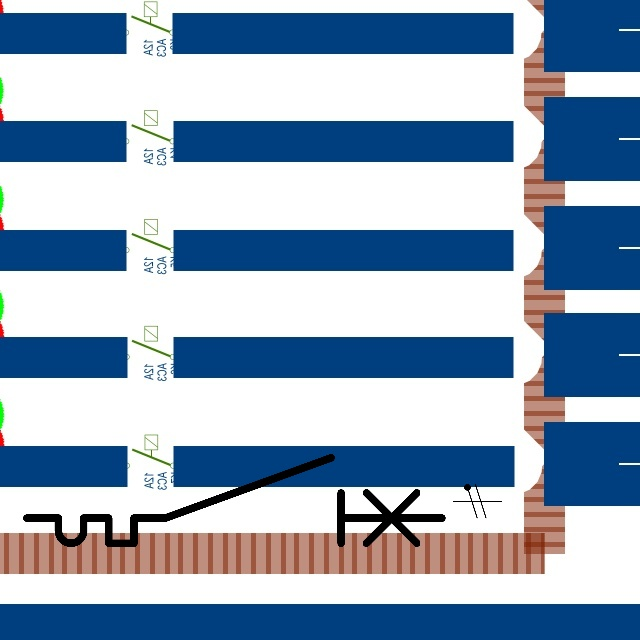interruptor_termomagnetico: (16, 447, 453, 554)
